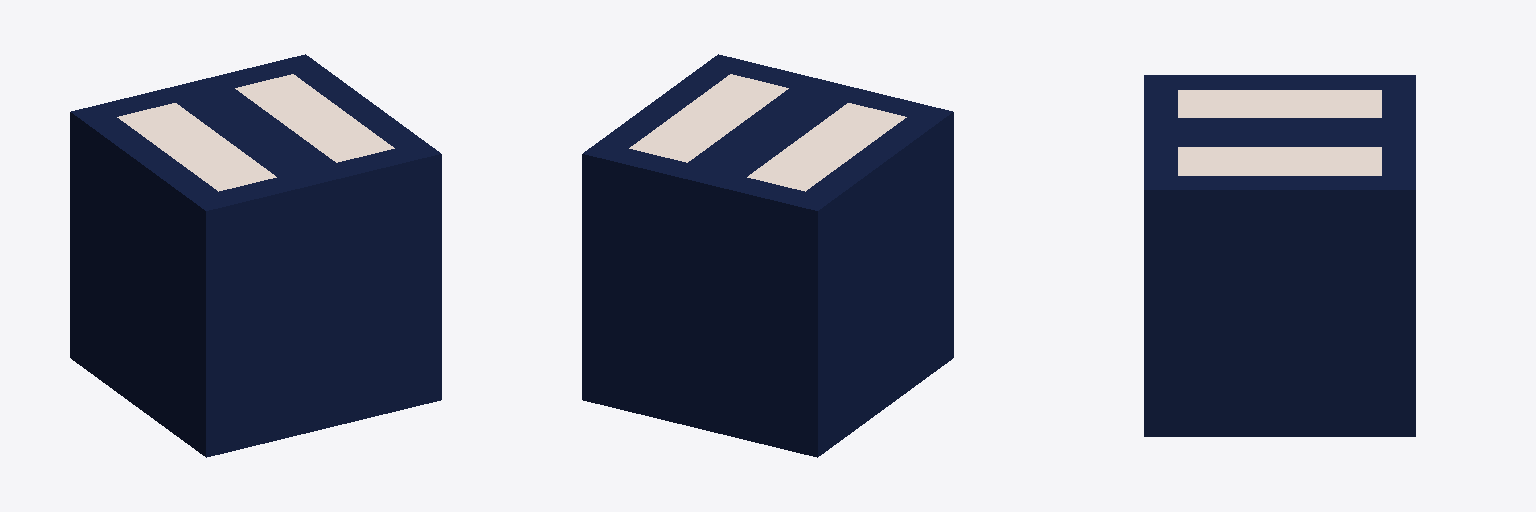
The picture shows the model from 3 angles: view 1: azimuth 30°, elevation 25°; view 2: azimuth 150°, elevation 25°; view 3: azimuth 270°, elevation 25°; orthographic projection.
Visible parts, largest first — view 1: tile_road_5; view 2: tile_road_5; view 3: tile_road_5.
Part boxes in pixels (x1,y1,x2,y2): tile_road_5: (70,54,441,457); tile_road_5: (582,54,953,457); tile_road_5: (1144,75,1415,436).
Size of the model in its own units: 1 by 1 by 1.
1 materials, 1 textured.